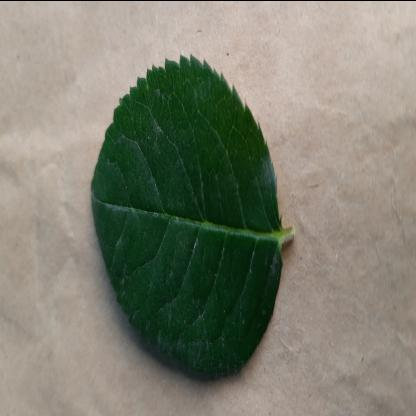normal: (92, 56, 282, 370)
